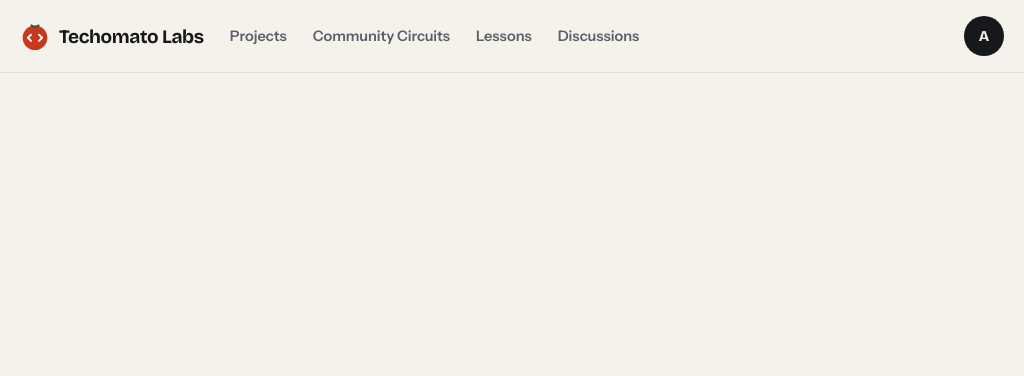
Test: Nav (signed in) › signs out and navigates home when "Sign out" is clicked
Click the button named "Account menu" at (984, 36), box [964, 16, 1004, 56]
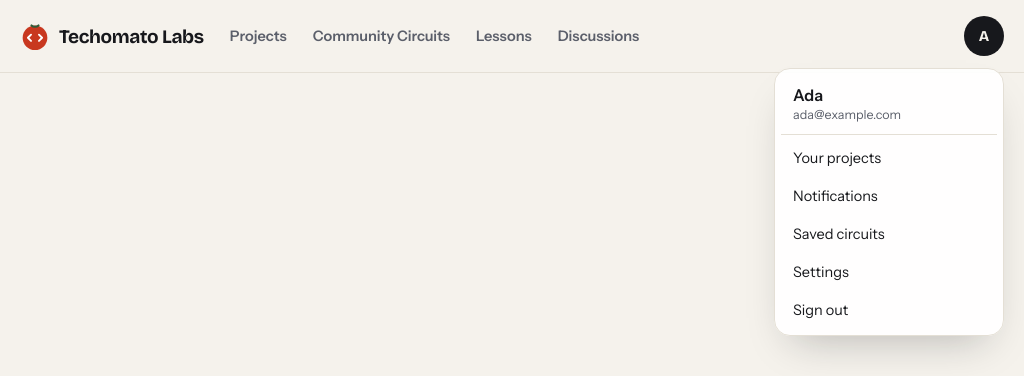
Click the button "Sign out" at (889, 310), box [781, 291, 997, 329]
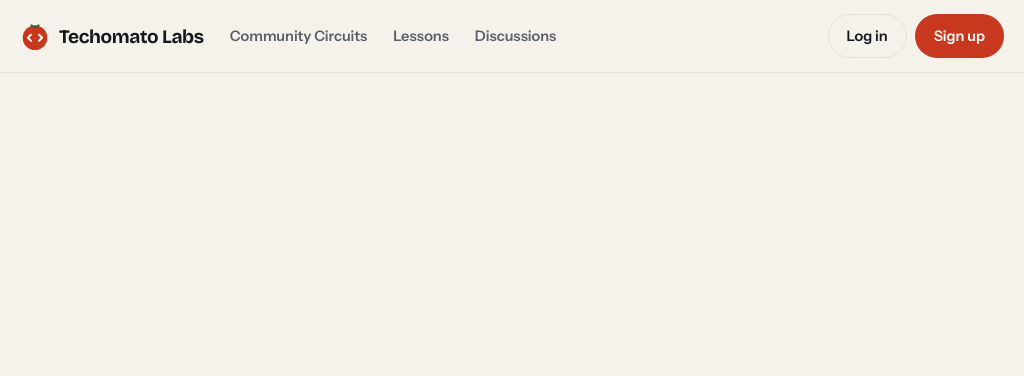
Result: the text "ada@example.com" is gone
